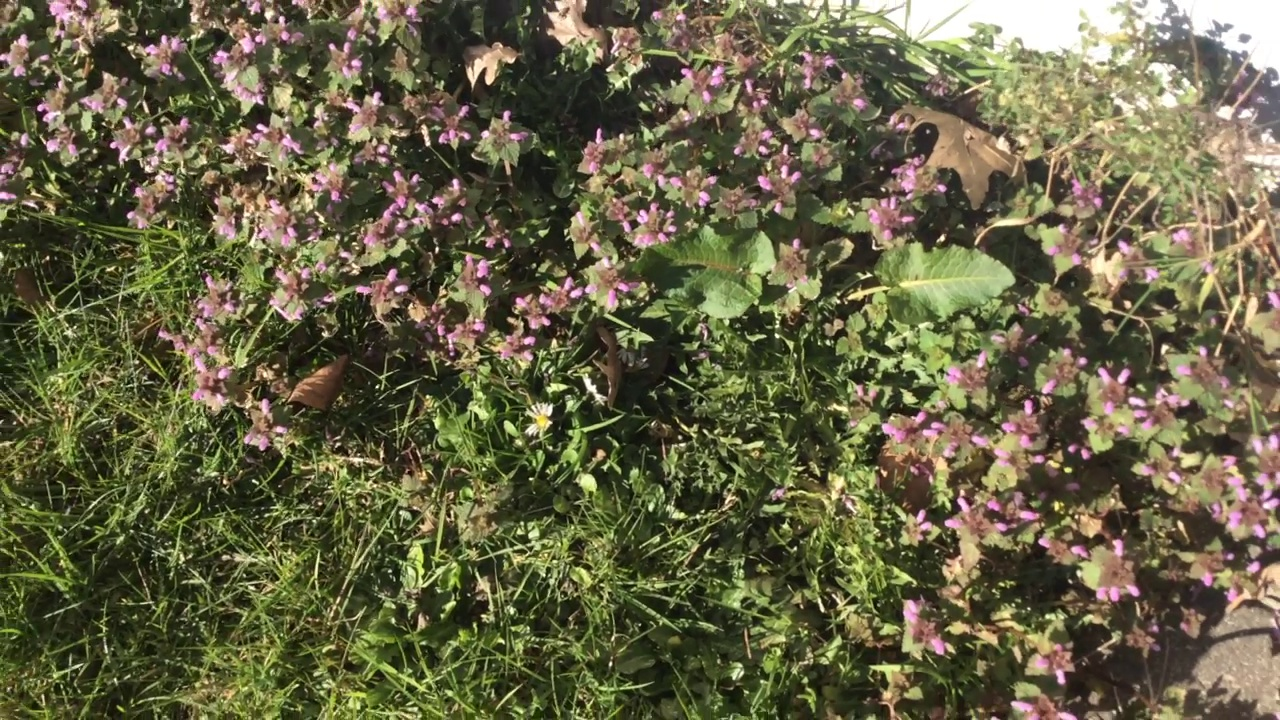rumex: (625, 228, 1017, 324)
